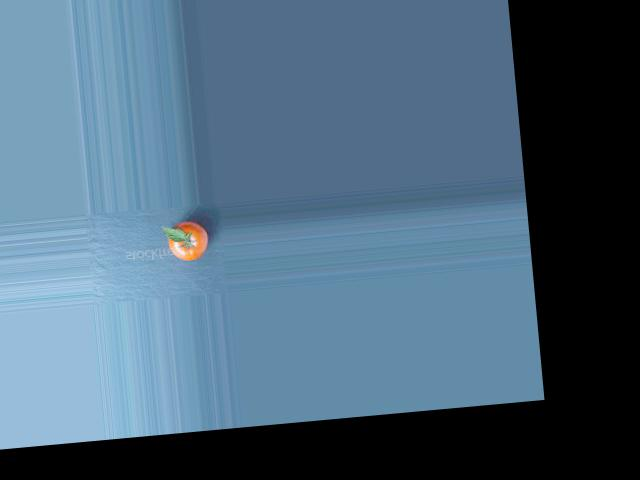tomato: (166, 220, 209, 261)
